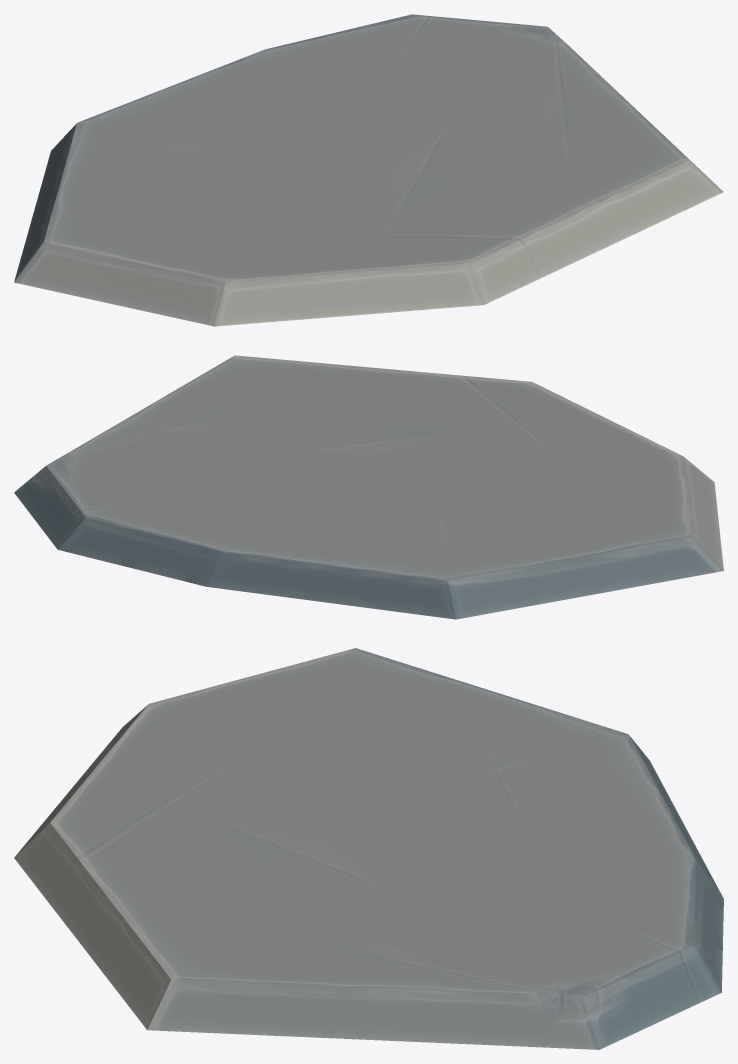
The model's file is RockForPath1.fbx.
3 renders of one model, top to bottom at view 1: azimuth 30°, elevation 25°; view 2: azimuth 150°, elevation 25°; view 3: azimuth 270°, elevation 25°, orthographic. The views are drawn at different scales.
Visible parts, largest first — view 1: Rock_for_path_LOW; view 2: Rock_for_path_LOW; view 3: Rock_for_path_LOW.
Part boxes in pixels (box(x1,y1,x2,y2)): Rock_for_path_LOW: box(14, 14, 723, 326); Rock_for_path_LOW: box(14, 355, 723, 619); Rock_for_path_LOW: box(14, 648, 723, 1049).
Bounding box in the file's own units: 118 × 5.21 × 91.8.
1 material, 1 textured.
